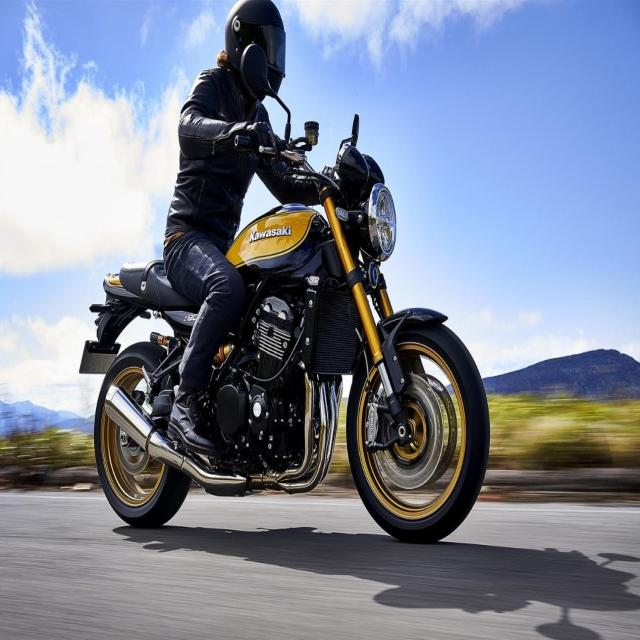Bike: (80, 108, 489, 542), (240, 43, 285, 107)
